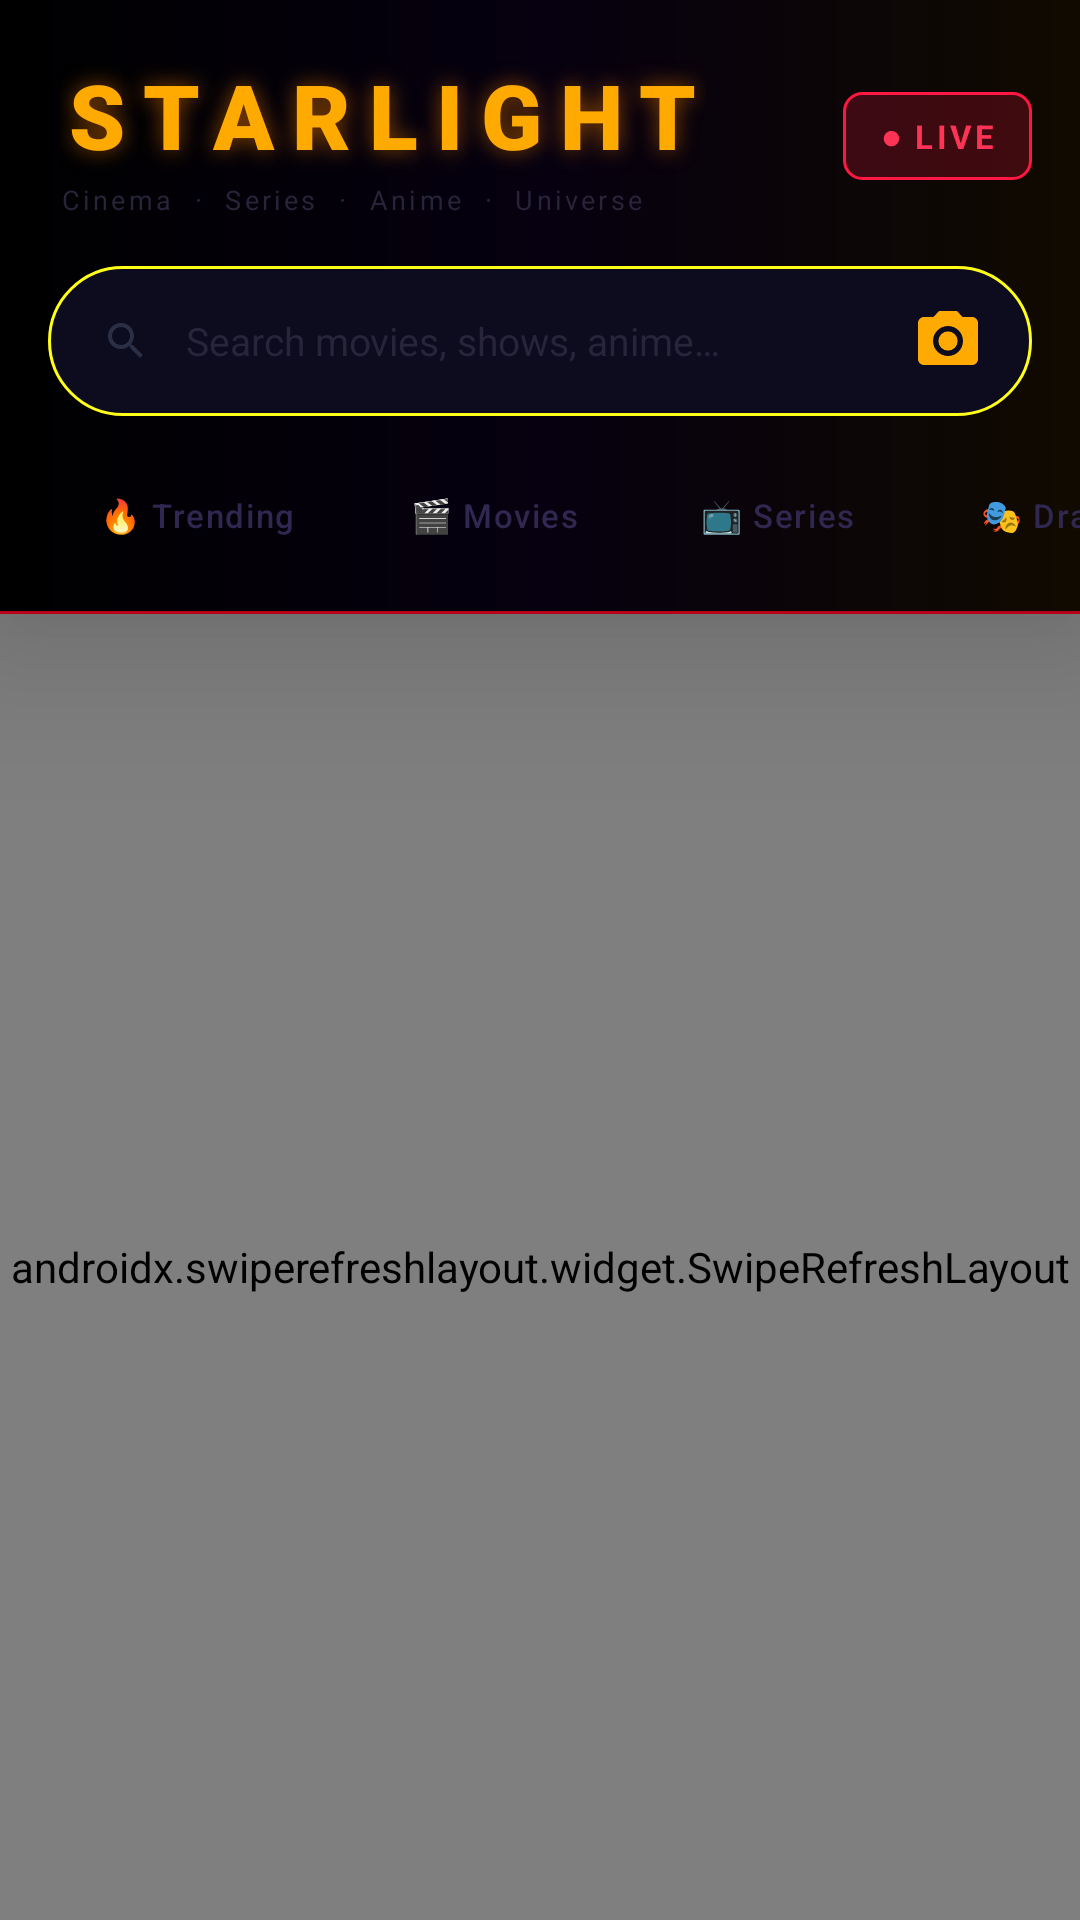

Screen size 1080x1920. Icon name, then its center in pixels as point (x, y):
Search by image: point (948, 338)
